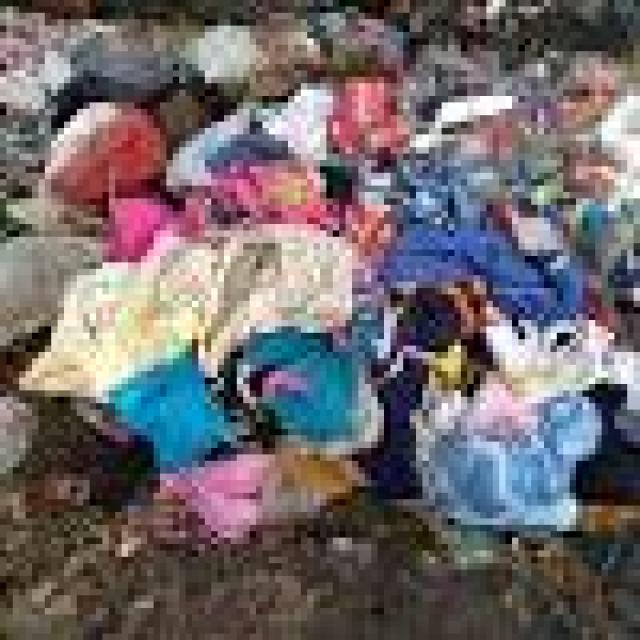Clothes -Biodegradable-: (0, 0, 640, 637)
